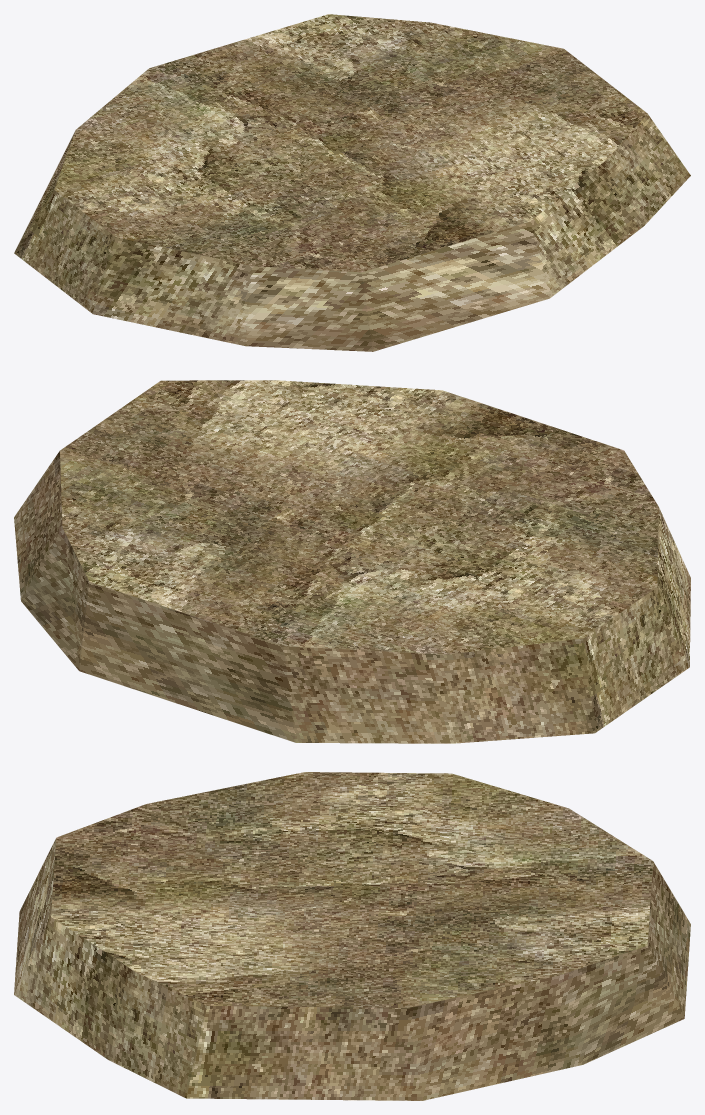
The model's file is stage-east-p7-135.glb.
3 renders of one model, top to bottom at view 1: azimuth 30°, elevation 25°; view 2: azimuth 150°, elevation 25°; view 3: azimuth 270°, elevation 25°, orthographic. The views are drawn at different scales.
Bounding box in the file's own units: 9.99 × 1.79 × 9.2.
Materials: 1 (1 with a texture image).
